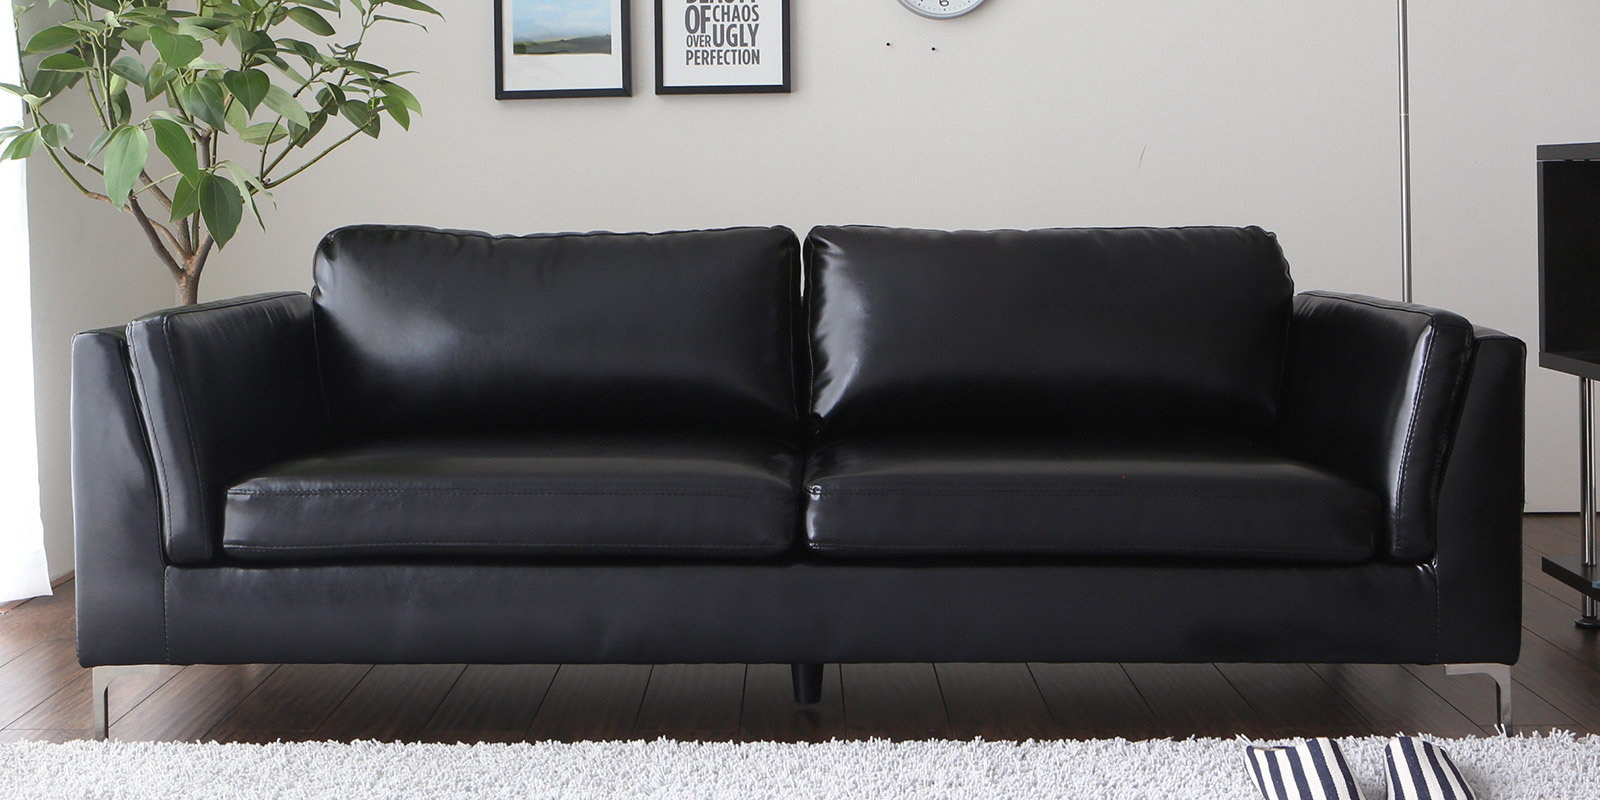Forma Three Seater Sofa in Black Colour by Zofa: (52, 210, 1557, 739)
